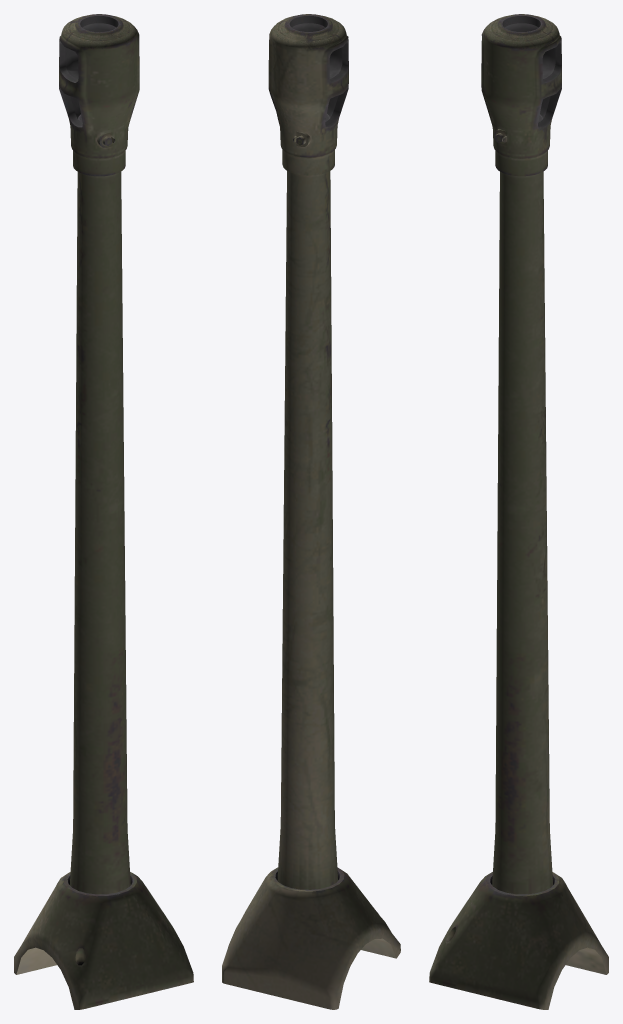
The model's file is Gun_02.glb.
3 views of the same model, side by side, from view 1: azimuth 30°, elevation 25°; view 2: azimuth 150°, elevation 25°; view 3: azimuth 330°, elevation 25° (orthographic).
Parts seen in each view (by area): view 1: set_0_group_0; view 2: set_0_group_0; view 3: set_0_group_0.
Boxes of the visible parts, <box> form: set_0_group_0: <box>14,14,193,1009</box>; set_0_group_0: <box>222,14,400,1009</box>; set_0_group_0: <box>429,14,608,1009</box>.
Size of the model in its own units: 0.5283 by 4.2 by 0.5465.
Materials: 1 (1 with a texture image).
